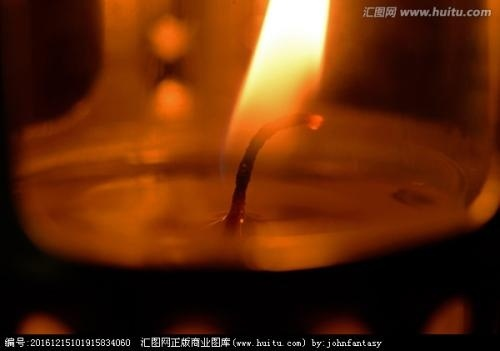fire: (226, 0, 333, 147)
